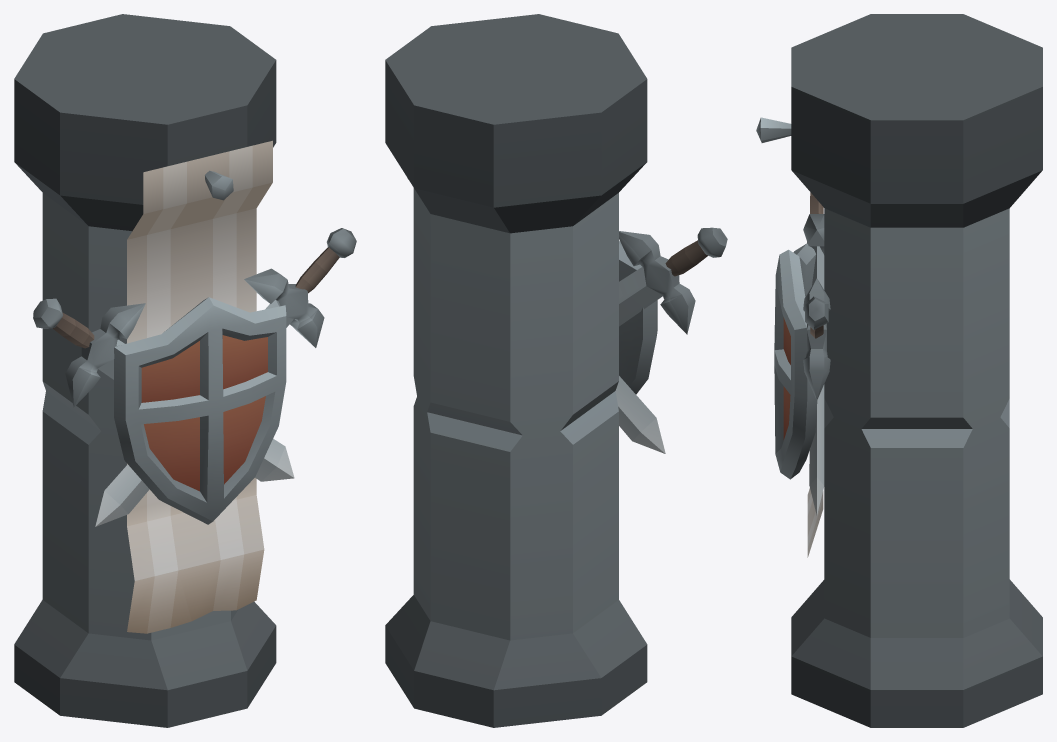
The model's file is dungeon-pillar-decorated.glb.
The picture shows the model from 3 angles, left to right: view 1: azimuth 30°, elevation 25°; view 2: azimuth 150°, elevation 25°; view 3: azimuth 270°, elevation 25°; orthographic projection.
Parts seen in each view (by area): view 1: dungeon-pillar-decorated; view 2: dungeon-pillar-decorated; view 3: dungeon-pillar-decorated.
Boxes of the visible parts, <box> form: dungeon-pillar-decorated: <box>14,14,356,727</box>; dungeon-pillar-decorated: <box>385,14,727,727</box>; dungeon-pillar-decorated: <box>756,14,1042,727</box>.
Bounding box in the file's own units: 1.67 × 3 × 1.28.
Materials: 1 (1 with a texture image).
